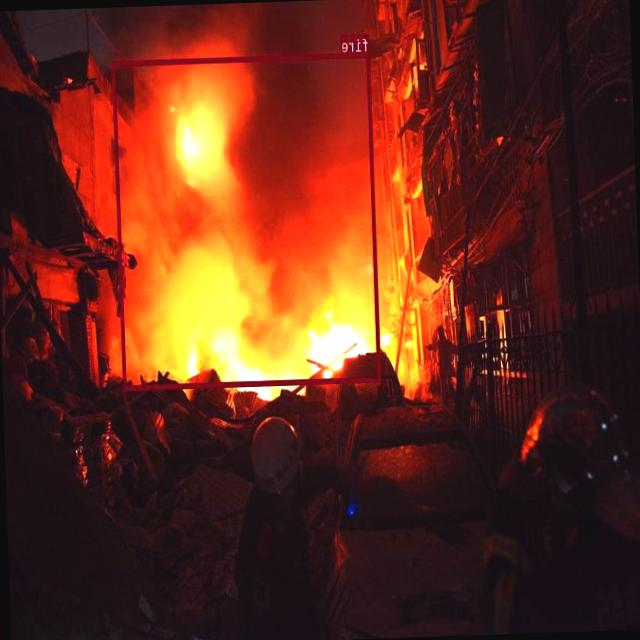fire: (112, 51, 382, 390)
